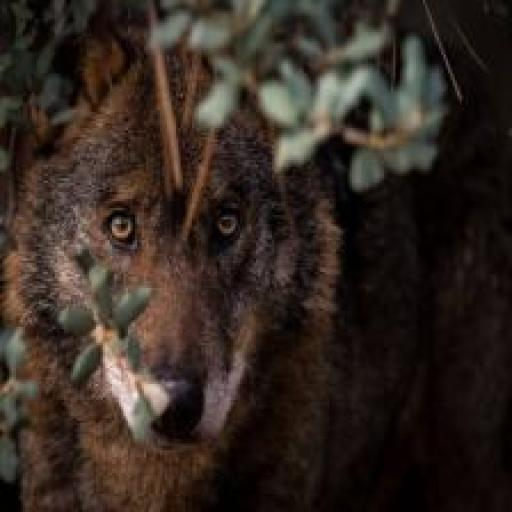wolf: (9, 7, 330, 502)
